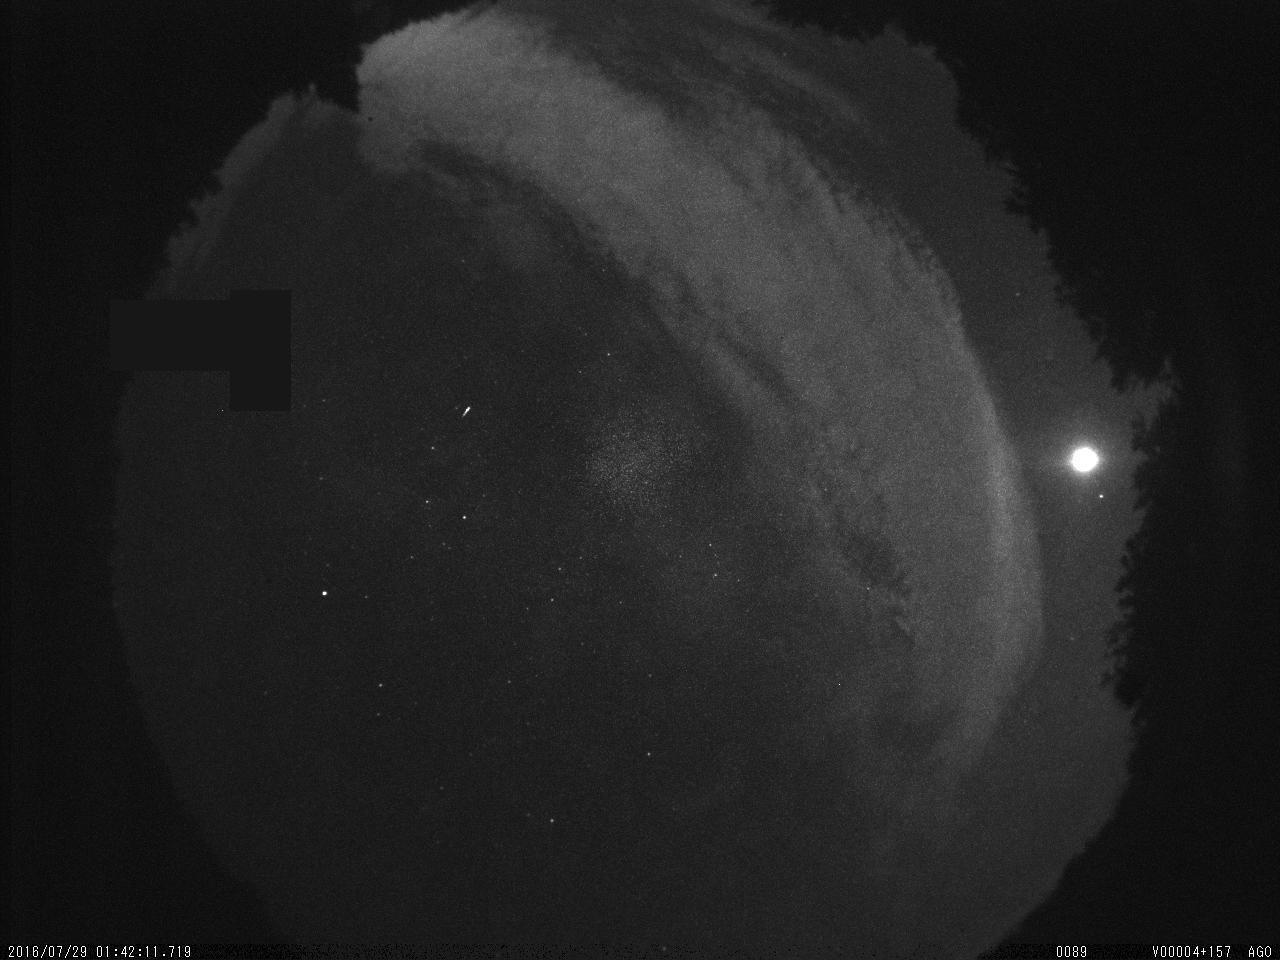meteor: (458, 402, 475, 421)
